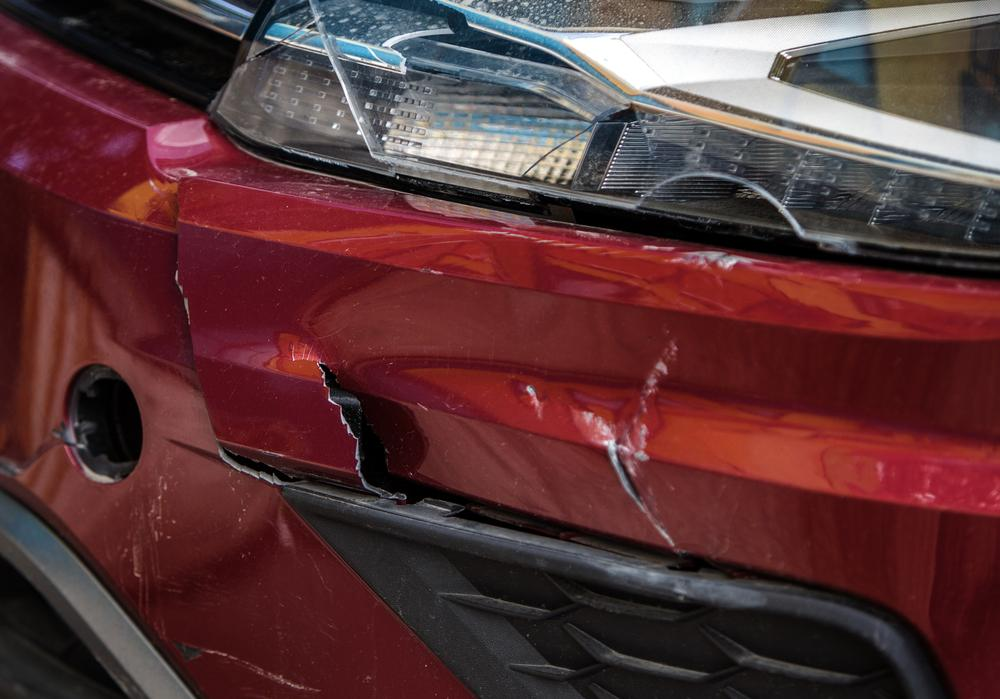crack: (174, 175, 313, 486), (315, 360, 392, 494), (604, 435, 675, 548)
lamp broken: (208, 0, 1000, 275)
